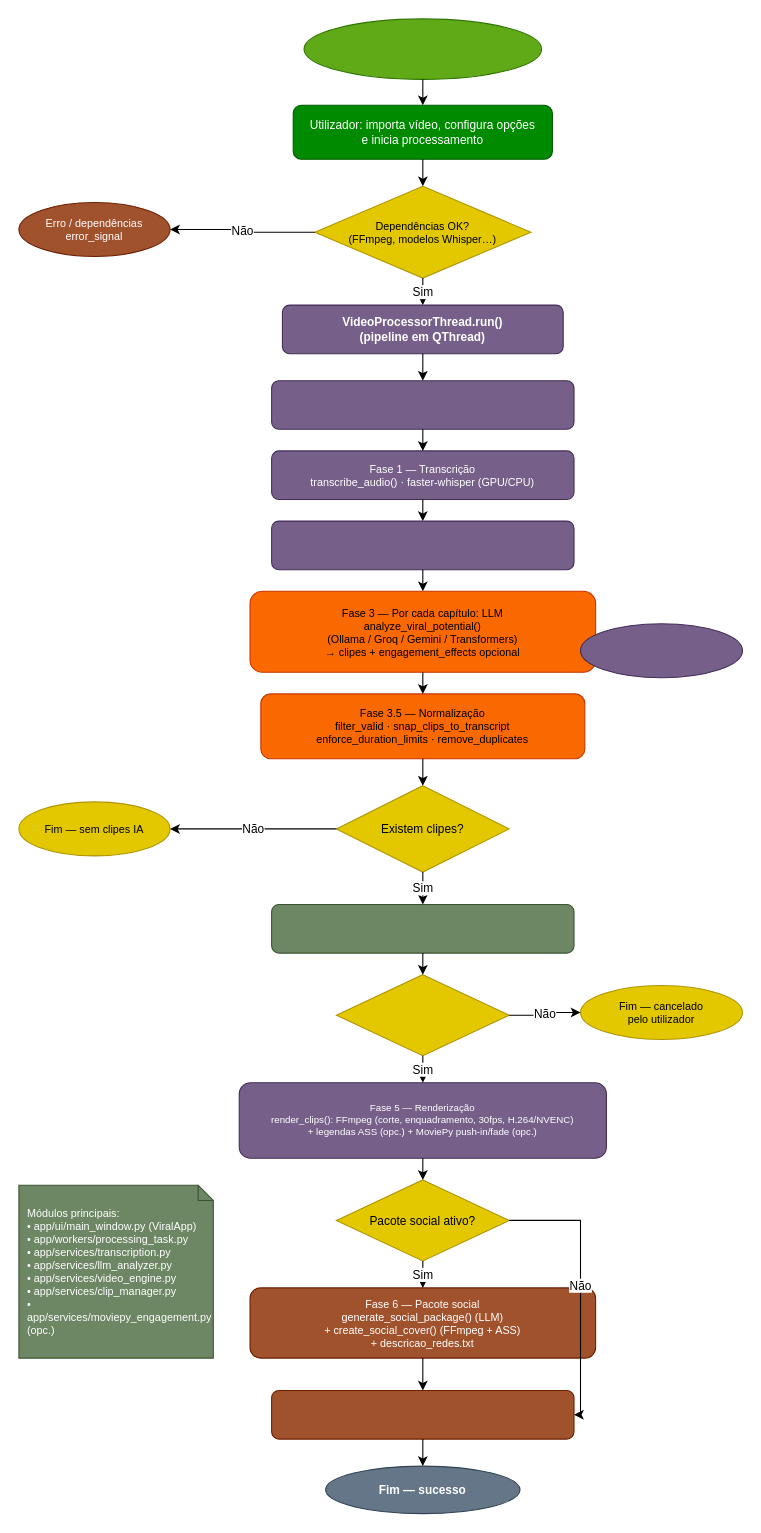
Image size: 761x1533. Some labels were removed from this diagram. Here are the shapes that lost their labels. From the top down, the centre of each, then its label:
At (x=422, y=48): "Início main.py → QApplication → ViralApp (PySide6)".
At (x=422, y=404): "Fase 0 — Áudio seguro extract_safe_audio() · FFmpeg → WAV 16kHz".
At (x=422, y=545): "Fase 2 — Capítulos build_overlapping_chunks (janela + overlap)".
At (x=660, y=650): "Exceção no pipeline (error_signal + log)".
At (x=422, y=928): "clips_ready_signal → UI Utilizador escolhe clipes na lista".
At (x=422, y=1015): "Seleção confirmada?".
At (x=422, y=1414): "append_history_entry() finished_signal · pasta do projeto".
